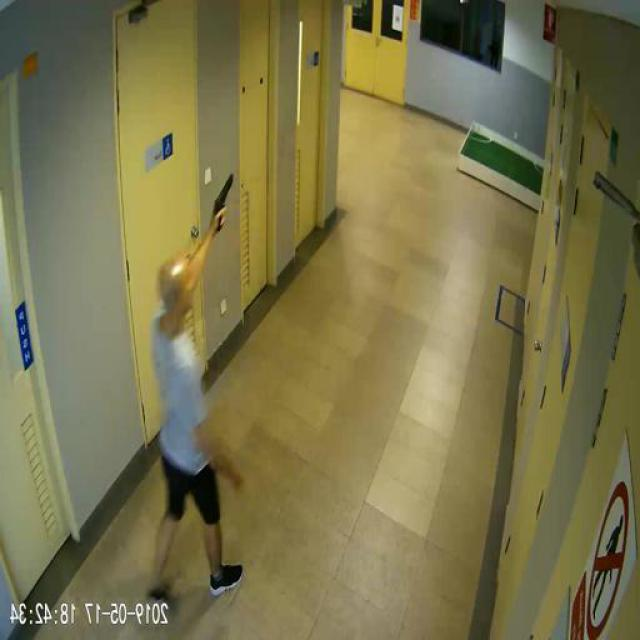Gun: (214, 172, 236, 232)
